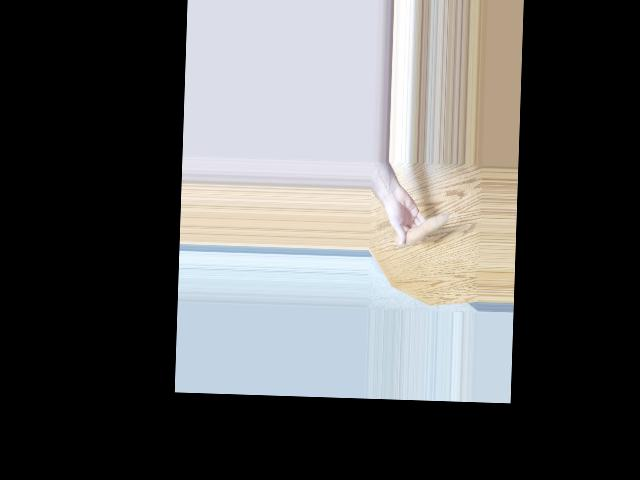sweet_potato: (393, 211, 448, 249)
